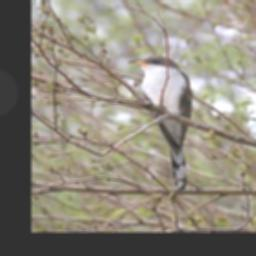Cuckoo: (128, 53, 194, 188)
